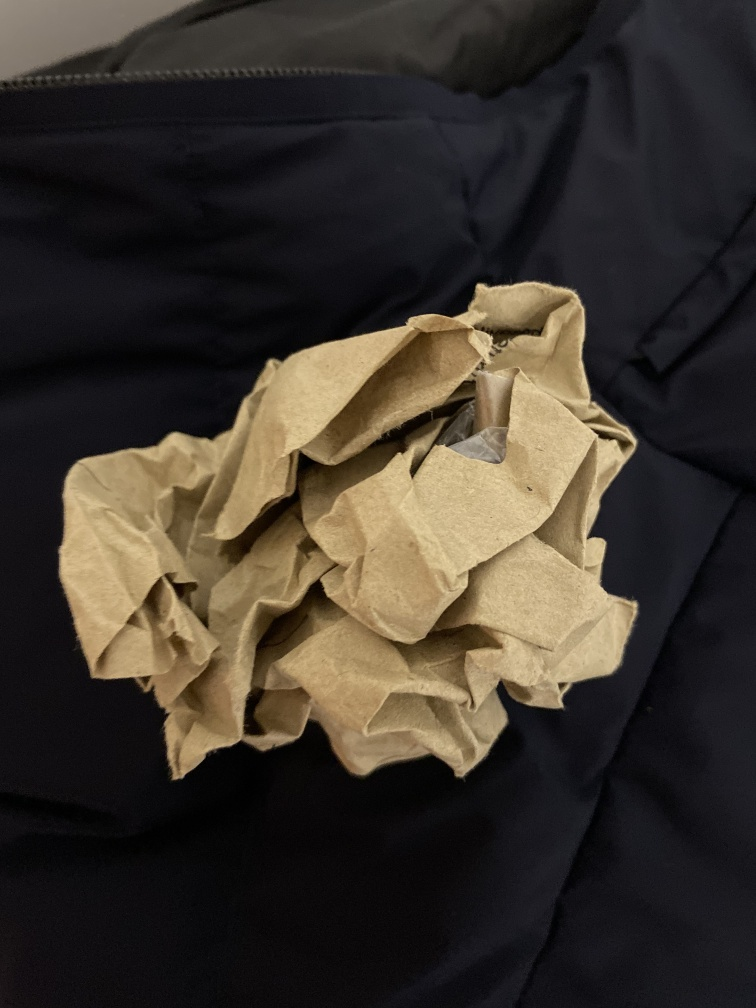paper_brown: (49, 276, 649, 790)
